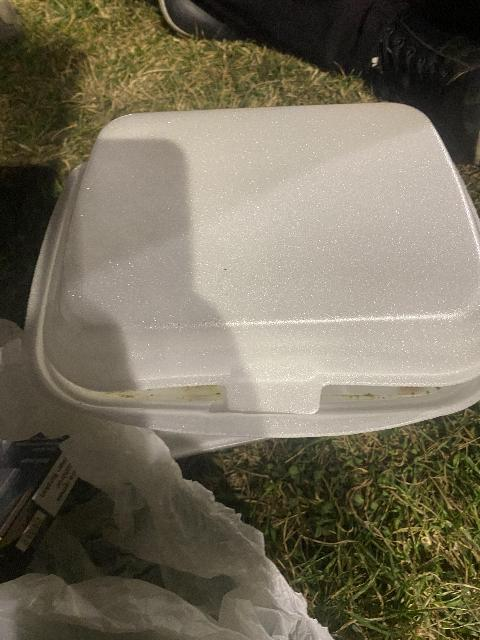Kagit: (0, 443, 75, 551)
Plastik: (35, 97, 473, 433), (54, 527, 284, 640)
